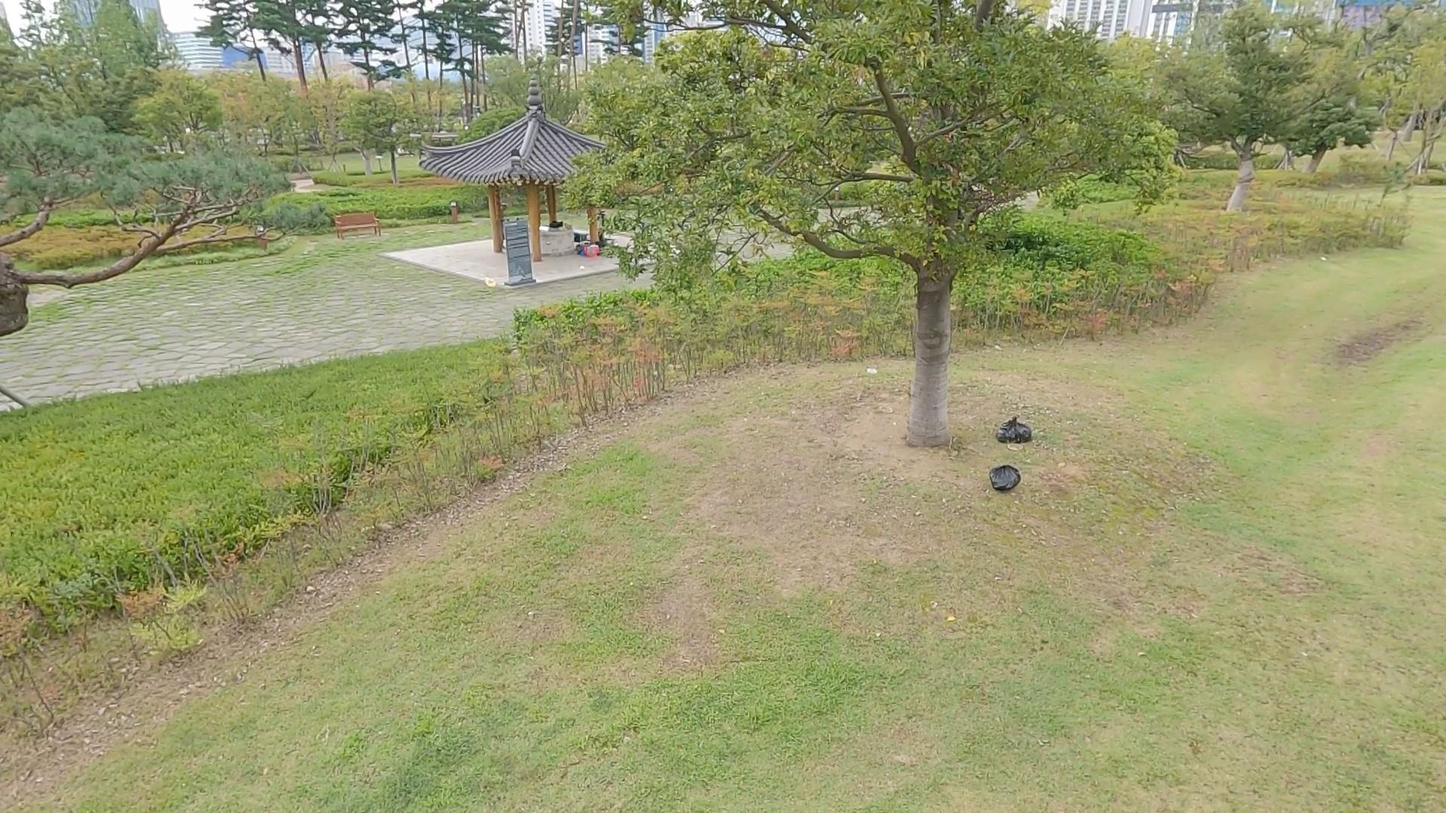trash: (992, 413, 1036, 444), (988, 463, 1018, 491), (866, 365, 878, 376)
